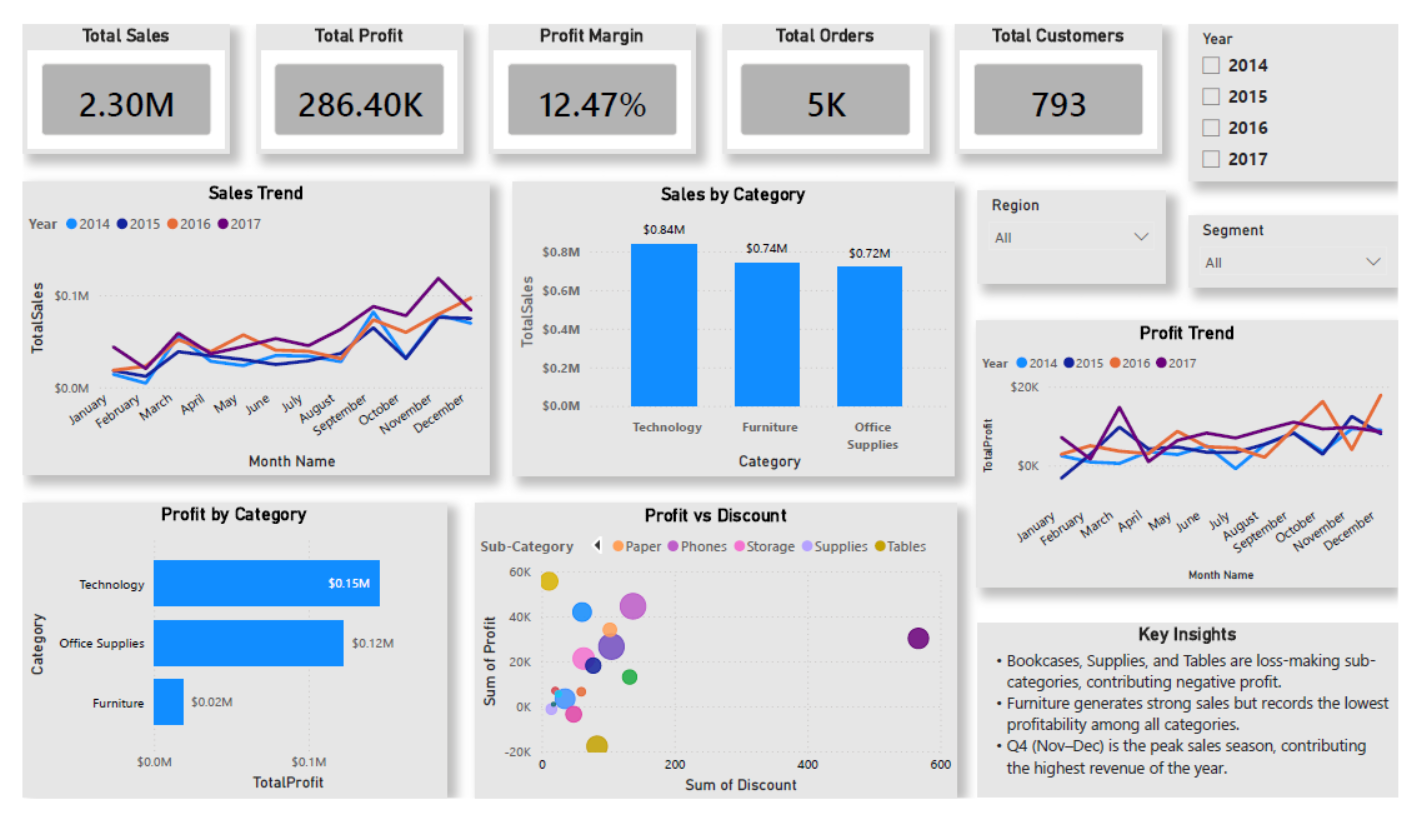

What the dashboard file says about the page in this screenshot:
{"tool":"powerbi","page":{"name":"Performance","canvas":[1280,720],"ordinal":0},"visuals":[{"type":"cardVisual","title":"Total Sales","fields":{"Data":["Orders.TotalSales"]},"box":[0,0,192.1,120.4],"z":0},{"type":"cardVisual","title":"Total Profit","fields":{"Data":["Orders.TotalProfit"]},"box":[217.1,0,192.1,120.4],"z":1000},{"type":"cardVisual","title":"Profit Margin","fields":{"Data":["Orders.ProfitMargin"]},"box":[434.1,0,192.1,120.4],"z":2000},{"type":"cardVisual","title":"Total Customers","fields":{"Data":["Orders.TotalCustomers"]},"box":[868.2,0,192.1,120.4],"z":3000},{"type":"cardVisual","title":"Total Orders","fields":{"Data":["Orders.TotalOrders"]},"box":[651.2,0,192.1,120.4],"z":4000},{"type":"lineChart","title":"Sales Trend","fields":{"Category":["DateTable.Month Name"],"Series":["DateTable.Year"],"Y":["Orders.TotalSales"]},"box":[0,146,433.6,273.1],"z":5000},{"type":"lineChart","title":"Profit Trend","fields":{"Series":["DateTable.Year"],"Y":["Orders.TotalProfit"],"Category":["DateTable.Month Name"]},"box":[887.6,276.4,392.7,247.4],"z":6000},{"type":"columnChart","title":"Sales by Category","fields":{"Category":["Orders.Category"],"Y":["Orders.TotalSales"]},"box":[455.6,146.7,411.7,273.1],"z":7000},{"type":"clusteredBarChart","title":"Profit by Category","fields":{"Category":["Orders.Category"],"Y":["Orders.TotalProfit"]},"box":[0,444.6,393.8,274.4],"z":8000},{"type":"scatterChart","title":"Profit vs Discount","fields":{"X":["Sum(Orders.Discount)"],"Y":["Sum(Orders.Profit)"],"Size":["Sum(Orders.Sales)"],"Series":["Orders.Sub-Category"]},"box":[421.3,445.6,447.3,274.4],"z":9000},{"type":"slicer","fields":{"Values":["DateTable.Year"]},"box":[1085,0,195,144.8],"z":10000},{"type":"slicer","fields":{"Values":["Orders.Region"]},"box":[888.9,154.7,174.8,86.1],"z":11000},{"type":"slicer","fields":{"Values":["Orders.Segment"]},"box":[1085.3,177.7,195,65.9],"z":12000},{"type":"textbox","title":"Key Insights","box":[888.9,556.8,391.3,162.7],"z":12001}]}

Visuals, with their boxes in screenshot pixels (x1, y1, x2, y2), scaled from the page's 1280x720 canvas onto the 1421x818 screenshot:
"Total Sales" cardVisual: (0, 0, 213, 137)
"Total Profit" cardVisual: (241, 0, 454, 137)
"Profit Margin" cardVisual: (482, 0, 695, 137)
"Total Customers" cardVisual: (964, 0, 1177, 137)
"Total Orders" cardVisual: (723, 0, 936, 137)
"Sales Trend" lineChart: (0, 166, 481, 476)
"Profit Trend" lineChart: (985, 314, 1420, 595)
"Sales by Category" columnChart: (506, 167, 963, 477)
"Profit by Category" clusteredBarChart: (0, 505, 437, 817)
"Profit vs Discount" scatterChart: (468, 506, 964, 817)
slicer - DateTable.Year: (1205, 0, 1420, 165)
slicer - Orders.Region: (987, 176, 1181, 274)
slicer - Orders.Segment: (1205, 202, 1420, 277)
"Key Insights" textbox: (987, 633, 1420, 817)
